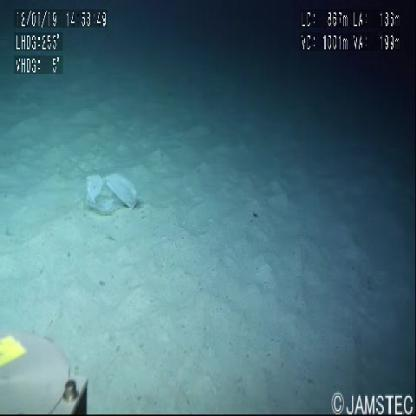Rác: (87, 176, 139, 218)
